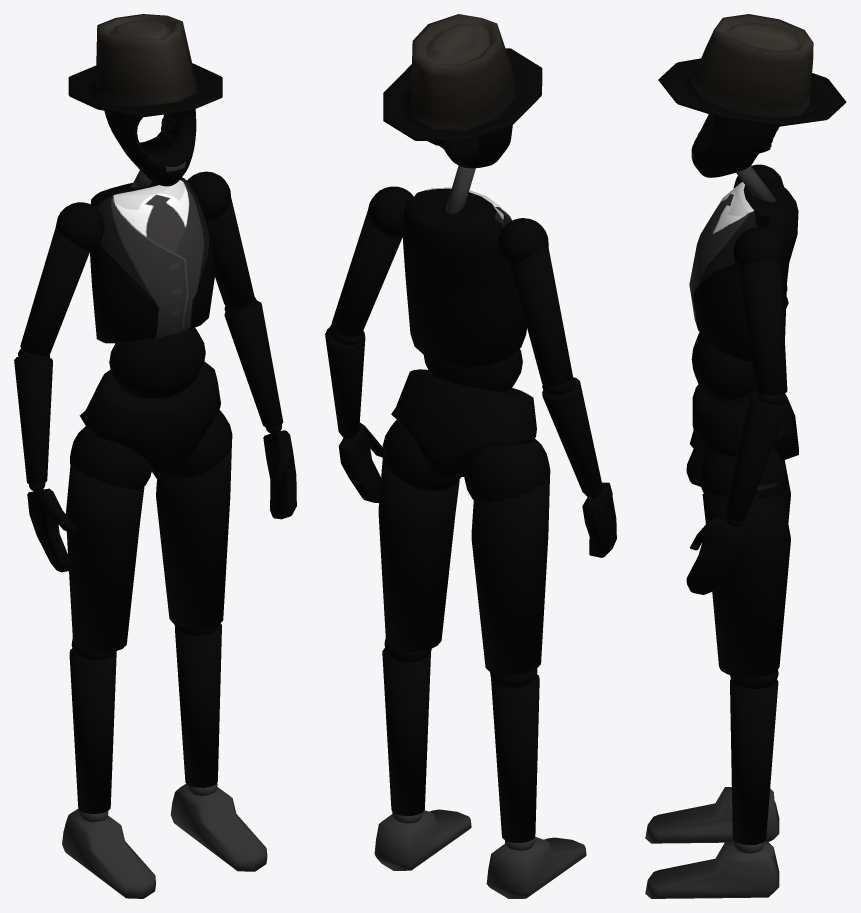
The model's file is Maniqui (1).fbx.
3 renders of one model, left to right at view 1: azimuth 30°, elevation 25°; view 2: azimuth 150°, elevation 25°; view 3: azimuth 270°, elevation 25°, orthographic. The views are drawn at different scales.
Visible parts, largest first — view 1: Maniqui, Sombrero, Face; view 2: Maniqui, Sombrero, Face; view 3: Maniqui, Sombrero, Face.
Part boxes in pixels (x1=…): Maniqui: x1=14, y1=170, x2=296, y2=898; Sombrero: x1=68, y1=14, x2=222, y2=117; Face: x1=104, y1=109, x2=196, y2=186; Maniqui: x1=325, y1=166, x2=616, y2=898; Sombrero: x1=383, y1=14, x2=542, y2=141; Face: x1=428, y1=125, x2=512, y2=168; Maniqui: x1=645, y1=164, x2=798, y2=898; Sombrero: x1=658, y1=14, x2=846, y2=126; Face: x1=691, y1=114, x2=779, y2=177.
Size of the model in its own units: 273 by 846 by 184.
2 materials, 2 textured.
